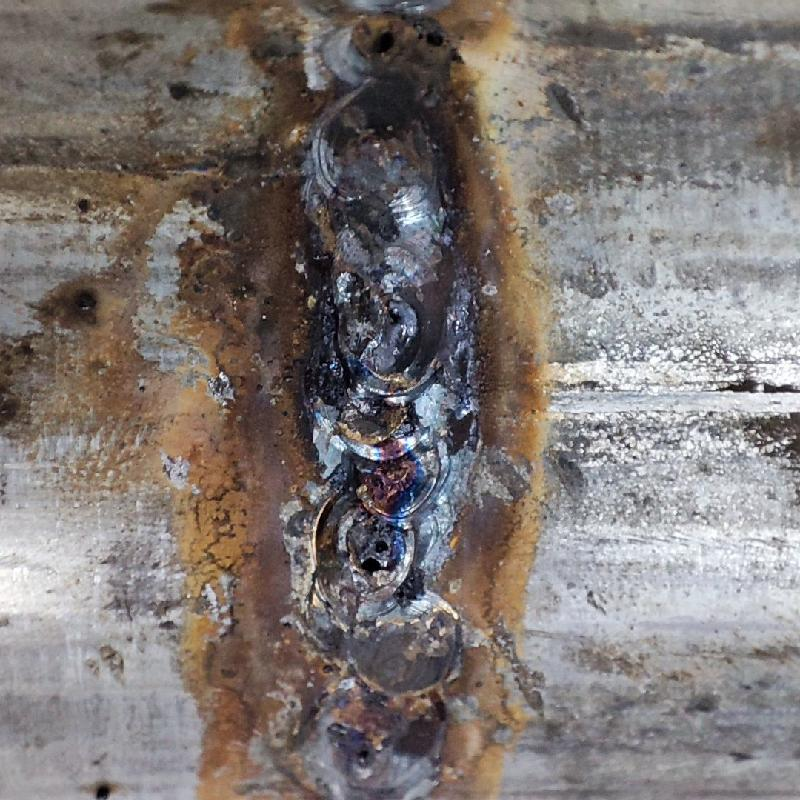Surface_pores: (361, 13, 450, 63), (348, 516, 409, 588)
wrong_size: (308, 3, 458, 270)
